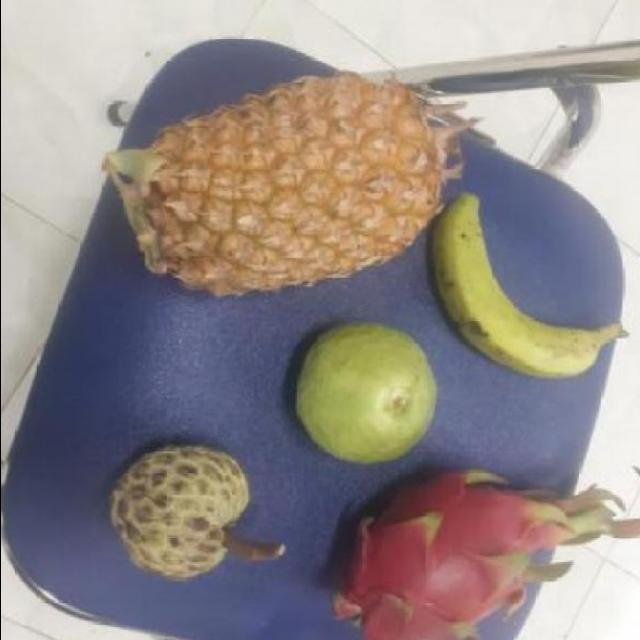banana: (433, 189, 613, 377)
dragon fruit: (331, 460, 551, 640)
guava: (295, 314, 435, 464)
pineapple: (134, 64, 443, 297)
sugar apple: (110, 433, 252, 581)
